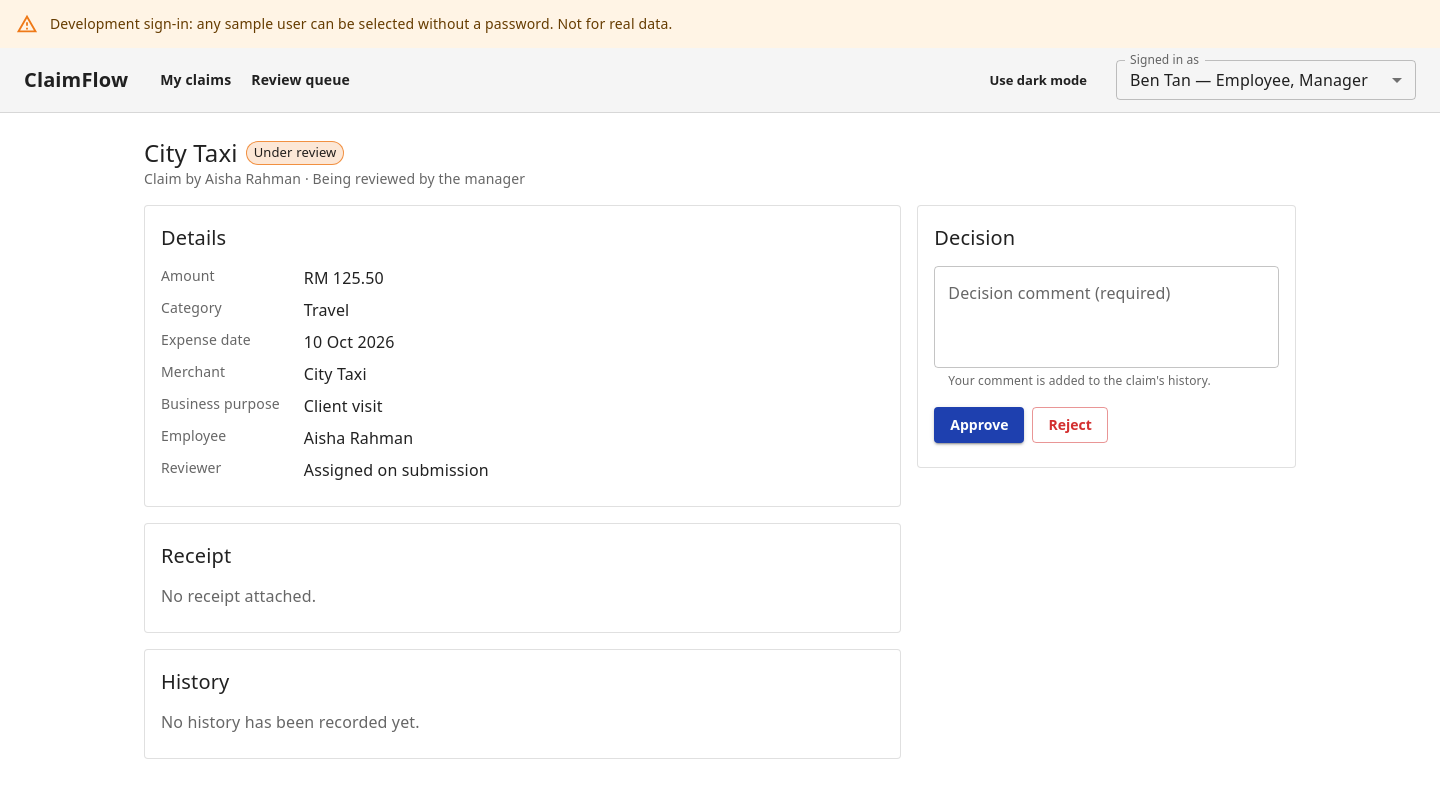
Test: lifecycle actions › disables every action and shows progress on the one running, once only
This screenshot has width=1440, height=810.
Step 1. Type "Fine" into the text box labelled "Decision comment (required)" → [1107, 317], box [948,282,1265,352]
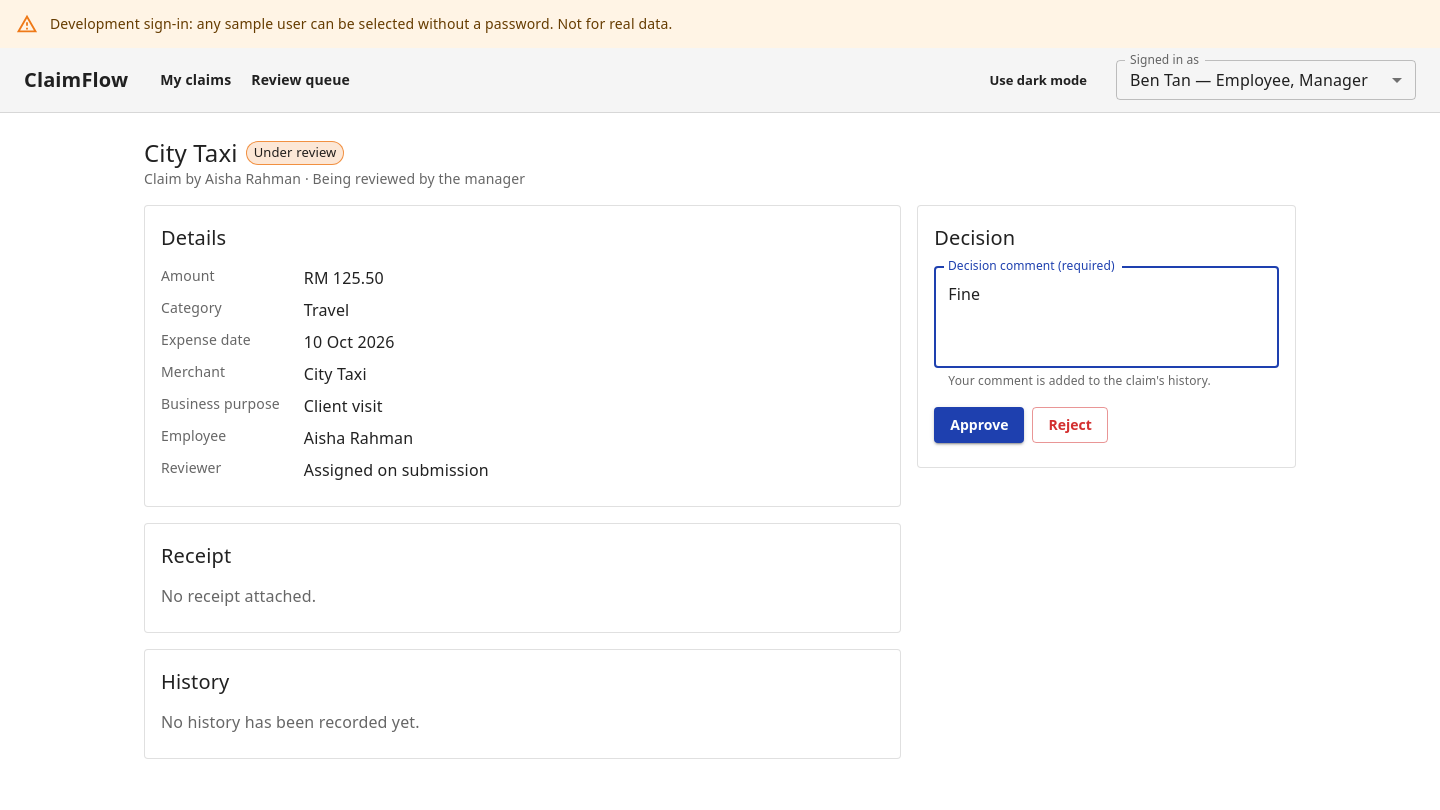
Step 2. Click the button "Approve" → [979, 425], box [934,407,1024,444]
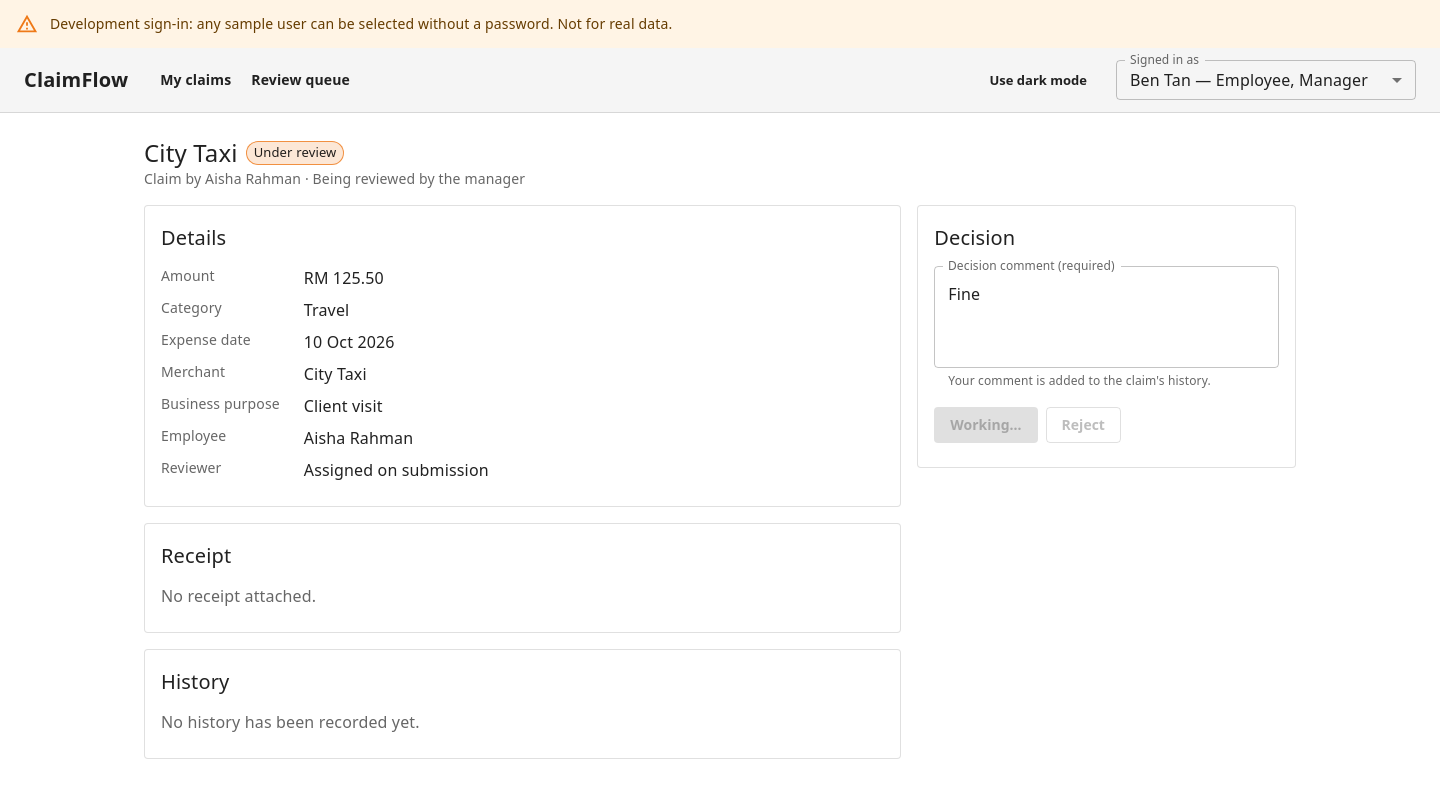
Now the button "Working…" is disabled, box [934,407,1038,444]
Now the button "Reject" is disabled
Step 3. Click the button "Reject" → [1083, 425], box [1046,407,1121,444]
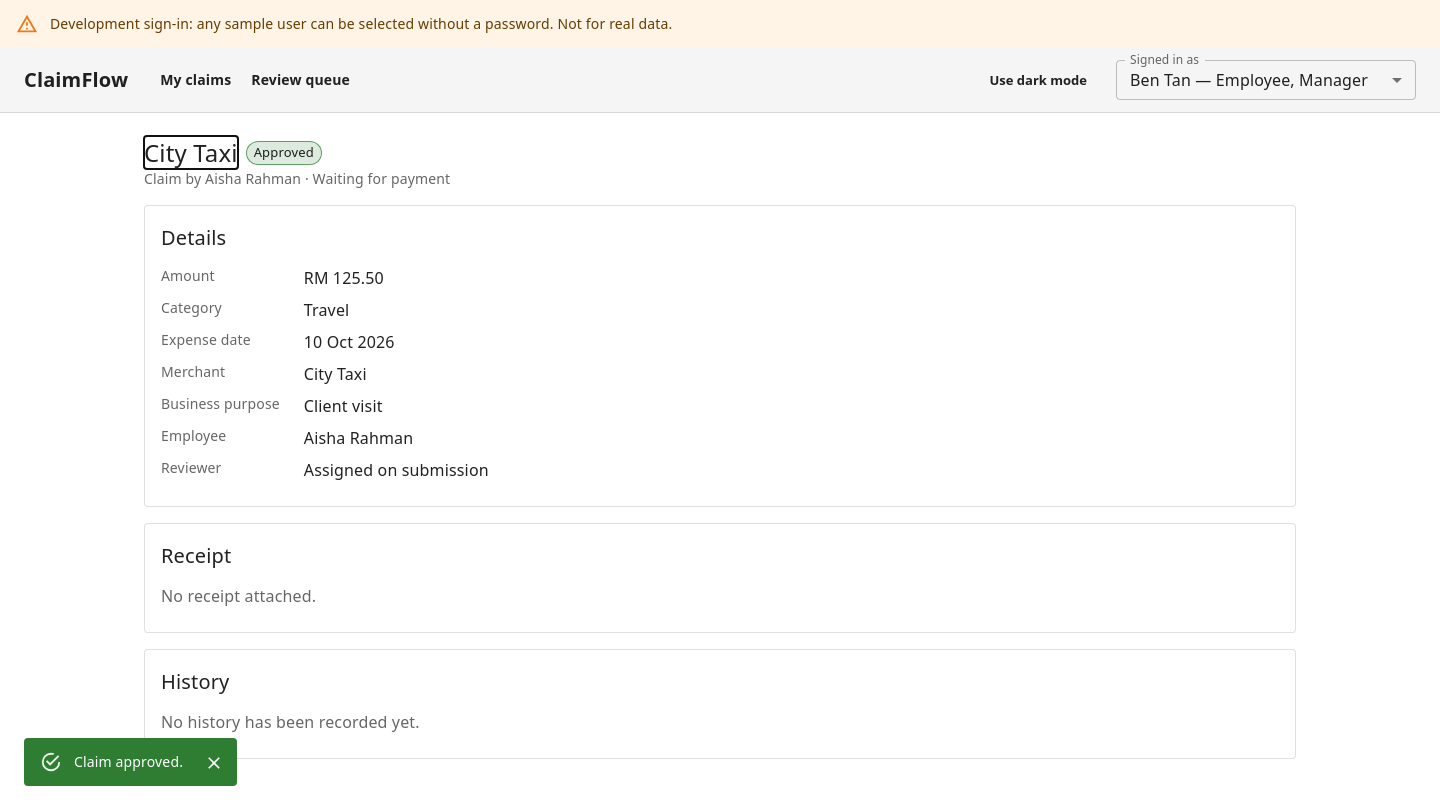
Now the text "Claim approved." is shown, box [74,752,183,771]
